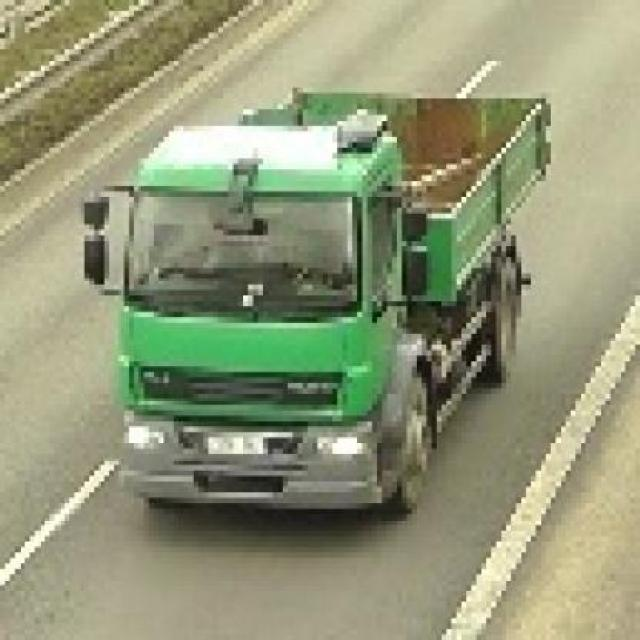truck: (86, 83, 547, 516)
